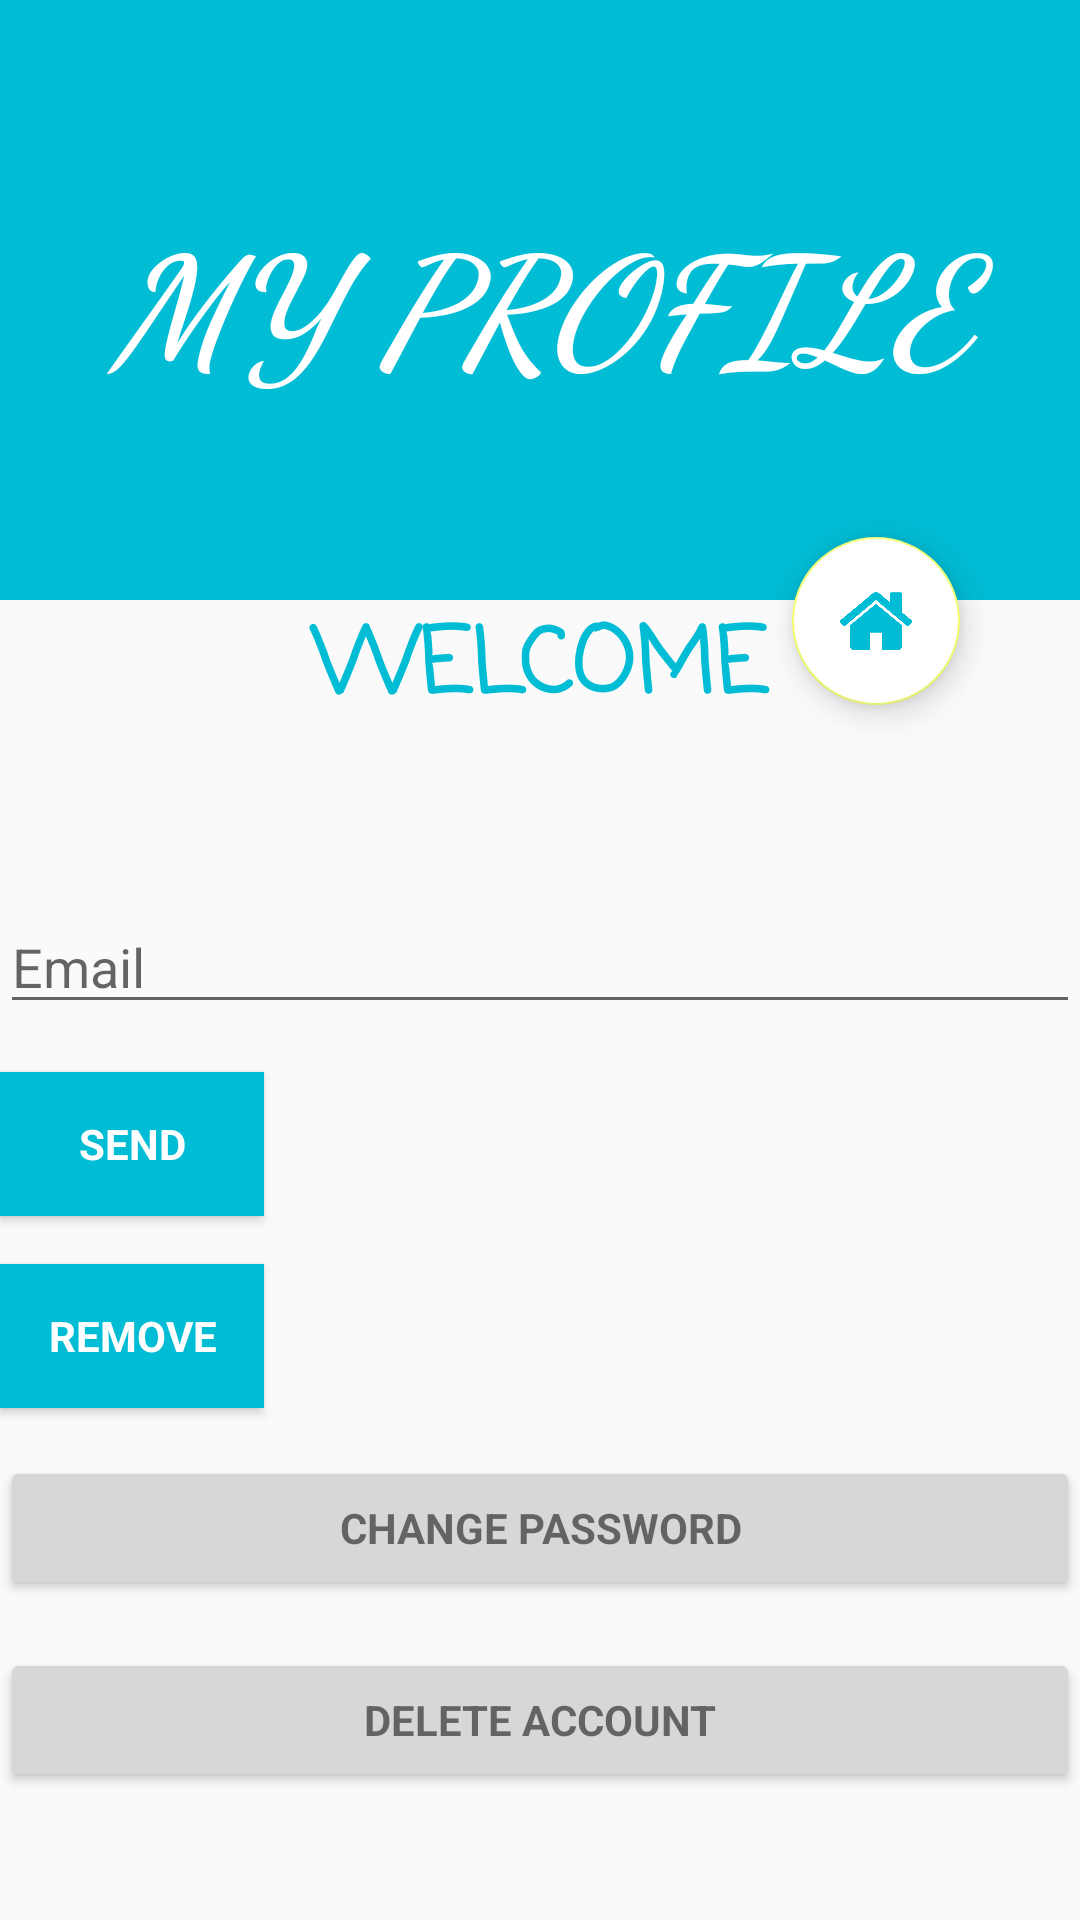

Icon click points for this 1080w x 1920h phone screenshot, format (x,y):
home: (876,621)
